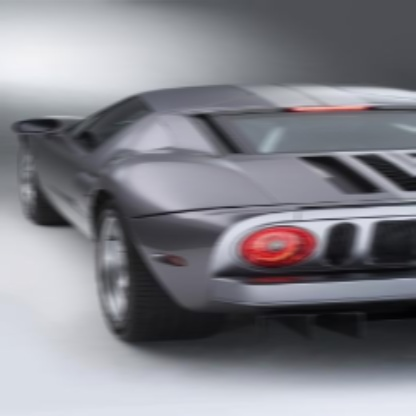Vehicle: (16, 81, 414, 346)
